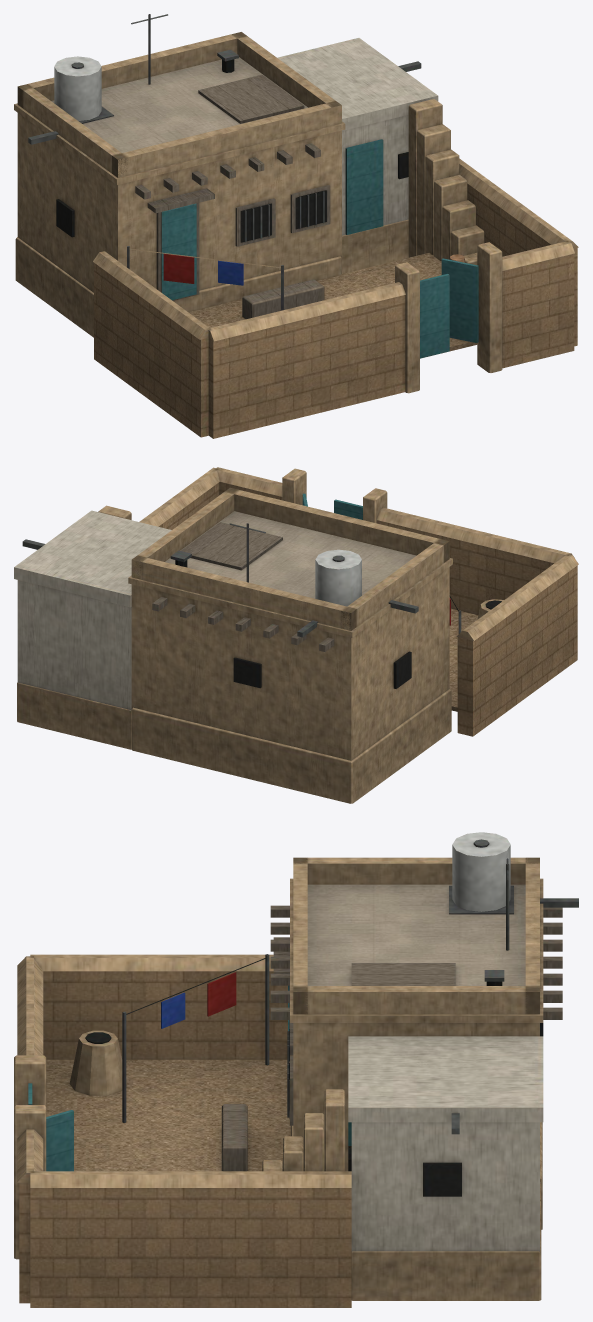
File: village_house.glb
3 renders of one model, top to bottom at view 1: azimuth 30°, elevation 25°; view 2: azimuth 150°, elevation 25°; view 3: azimuth 270°, elevation 25°, orthographic. The views are drawn at different scales.
Visible parts, largest first — view 1: House; view 2: House; view 3: House.
Part boxes in pixels (x1,y1,x2,y2): House: (14,14,578,438); House: (14,467,578,803); House: (14,832,578,1307).
Size of the model in its own units: 8.65 by 5.15 by 8.7.
Materials: 1 (1 with a texture image).
